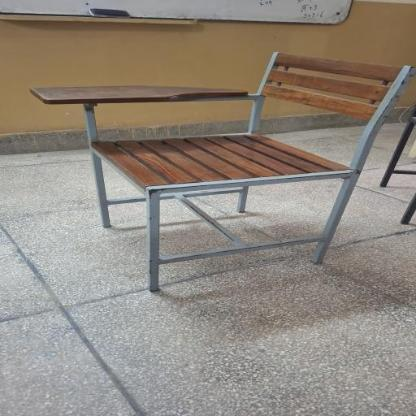chair: (21, 43, 415, 294)
